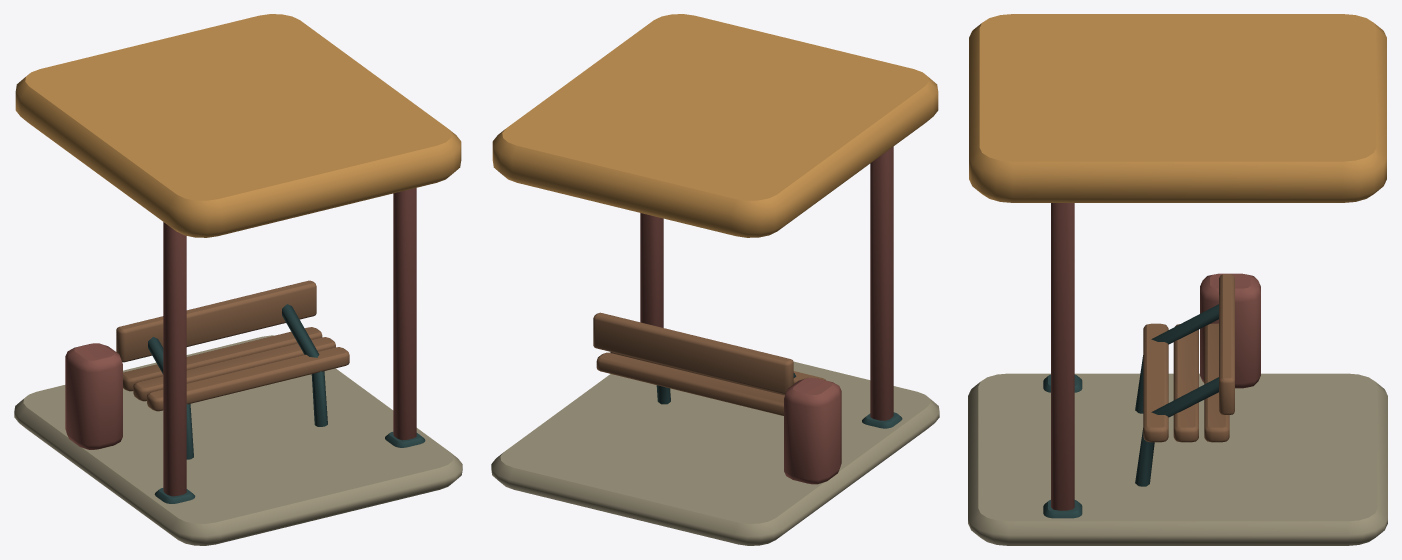
The model's file is motel_works_2.glb.
3 views of the same model, side by side, from view 1: azimuth 30°, elevation 25°; view 2: azimuth 150°, elevation 25°; view 3: azimuth 270°, elevation 25° (orthographic). The views are drawn at different scales.
Parts seen in each view (by area): view 1: MotelWorks2; view 2: MotelWorks2; view 3: MotelWorks2.
Boxes of the visible parts, <box> form: MotelWorks2: <box>14,14,462,545</box>; MotelWorks2: <box>491,14,939,545</box>; MotelWorks2: <box>968,14,1387,545</box>.
Bounding box in the file's own units: 2.19 × 2.51 × 2.48.
